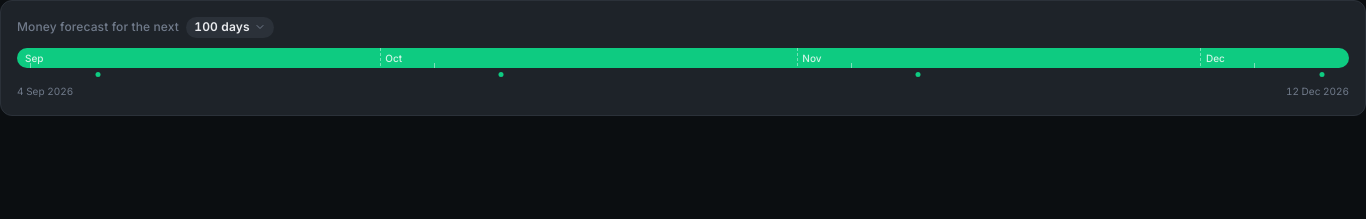
Forecast horizon › opens a slider on tap, closed until then
Click the button with test id "projection-horizon": (230,27) top-left (186, 17), bottom-right (274, 38)
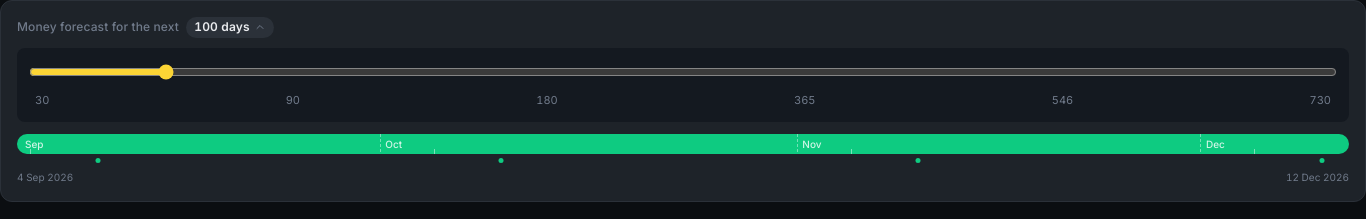
expect the slider with test id "projection-horizon-slider" is shown: met, box top-left (29, 60), bottom-right (1337, 84)
expect the button with test id "projection-horizon" is expanded: met, box top-left (186, 17), bottom-right (274, 38)
